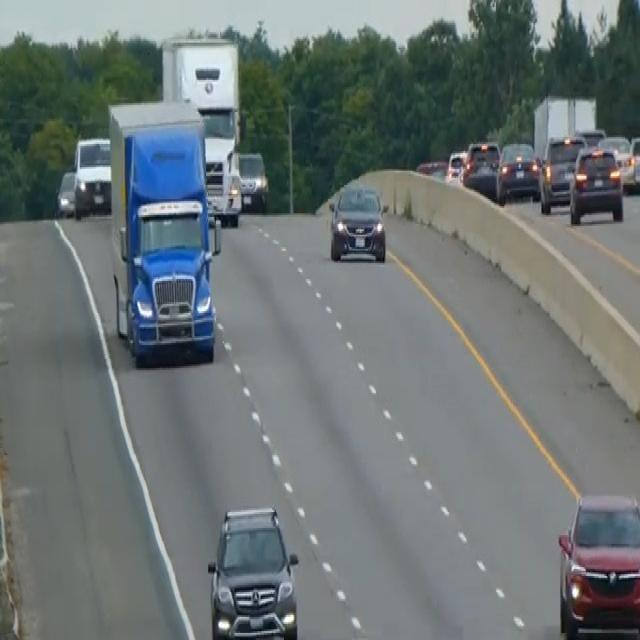car: (206, 502, 300, 638), (556, 489, 639, 638), (316, 162, 400, 282), (327, 180, 387, 263), (568, 144, 624, 224), (538, 132, 586, 214), (72, 133, 112, 217), (495, 138, 540, 204), (461, 137, 500, 195), (237, 150, 269, 212), (596, 134, 632, 188), (55, 167, 76, 217), (574, 124, 606, 148), (626, 133, 639, 192), (445, 148, 466, 182)
lorry: (106, 96, 221, 366)
